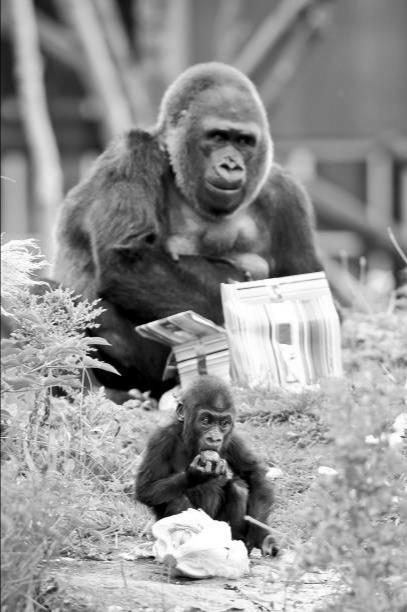gorille_Autres: (57, 47, 340, 282)
